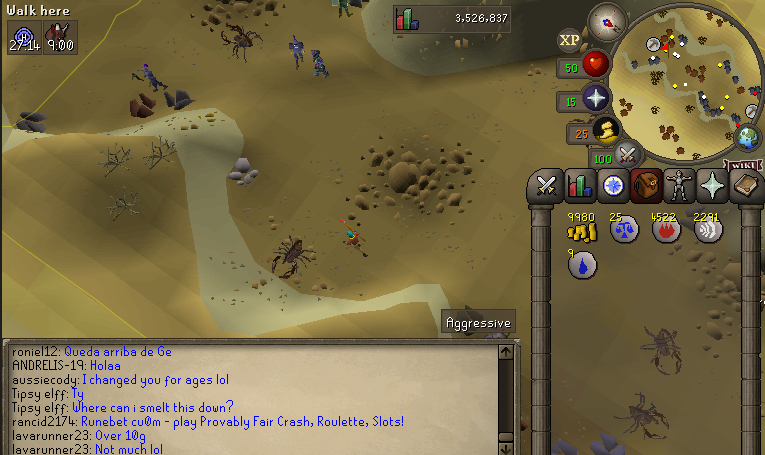depleted: (15, 106, 50, 139), (164, 85, 195, 113)
iron: (125, 90, 158, 122)
